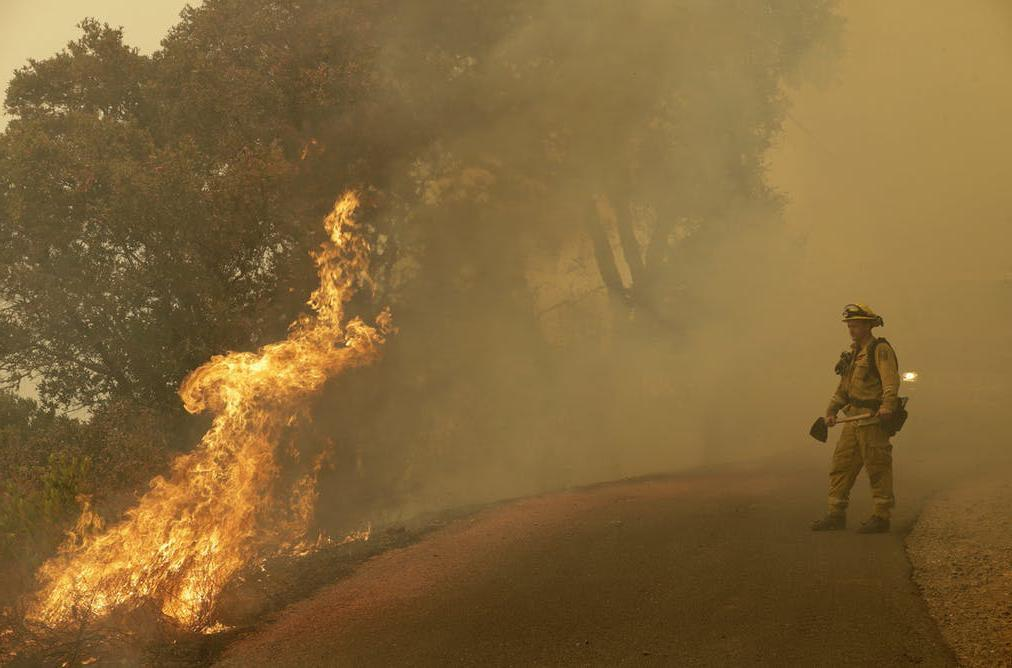Fire: (18, 178, 404, 589)
